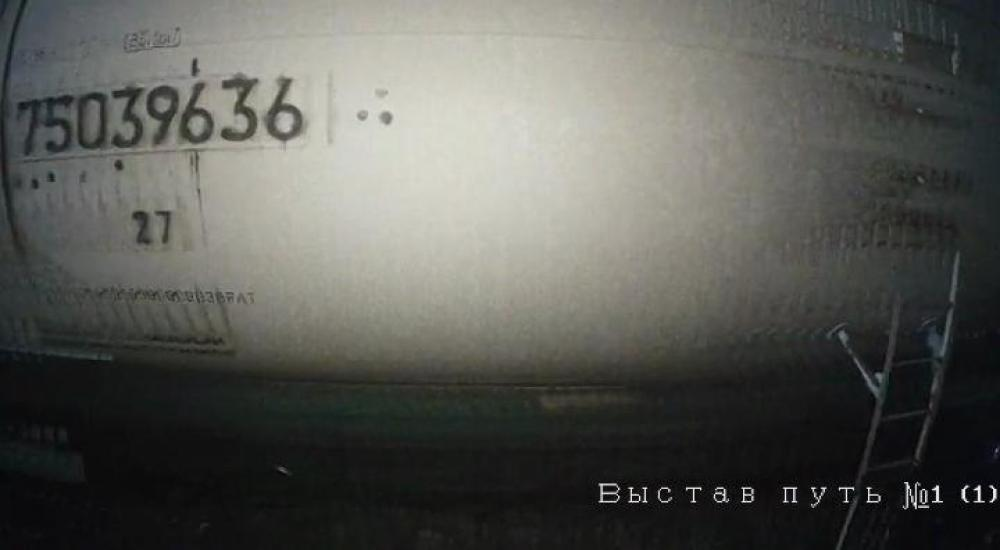Wagon-number: (11, 72, 311, 160)
